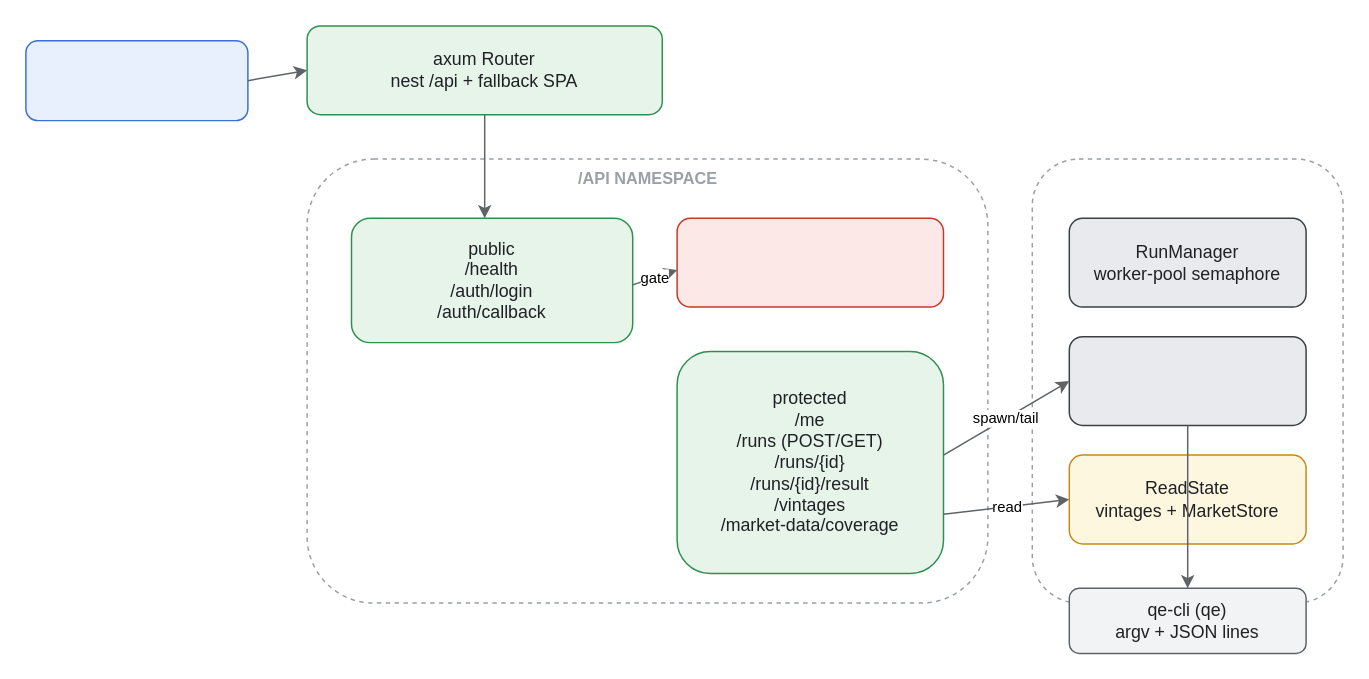
The diagram is 1369 pixels wide and 679 high, and some of its shapes have lost their labels. Each missing label, with the box of its shape:
Browser request cookie: (24, 39, 248, 121)
CliJobSpawner qe-cli subprocess: (1068, 335, 1306, 426)
require_session middleware → 401: (676, 217, 944, 307)
STATE + WORKERS: (1031, 158, 1343, 603)
